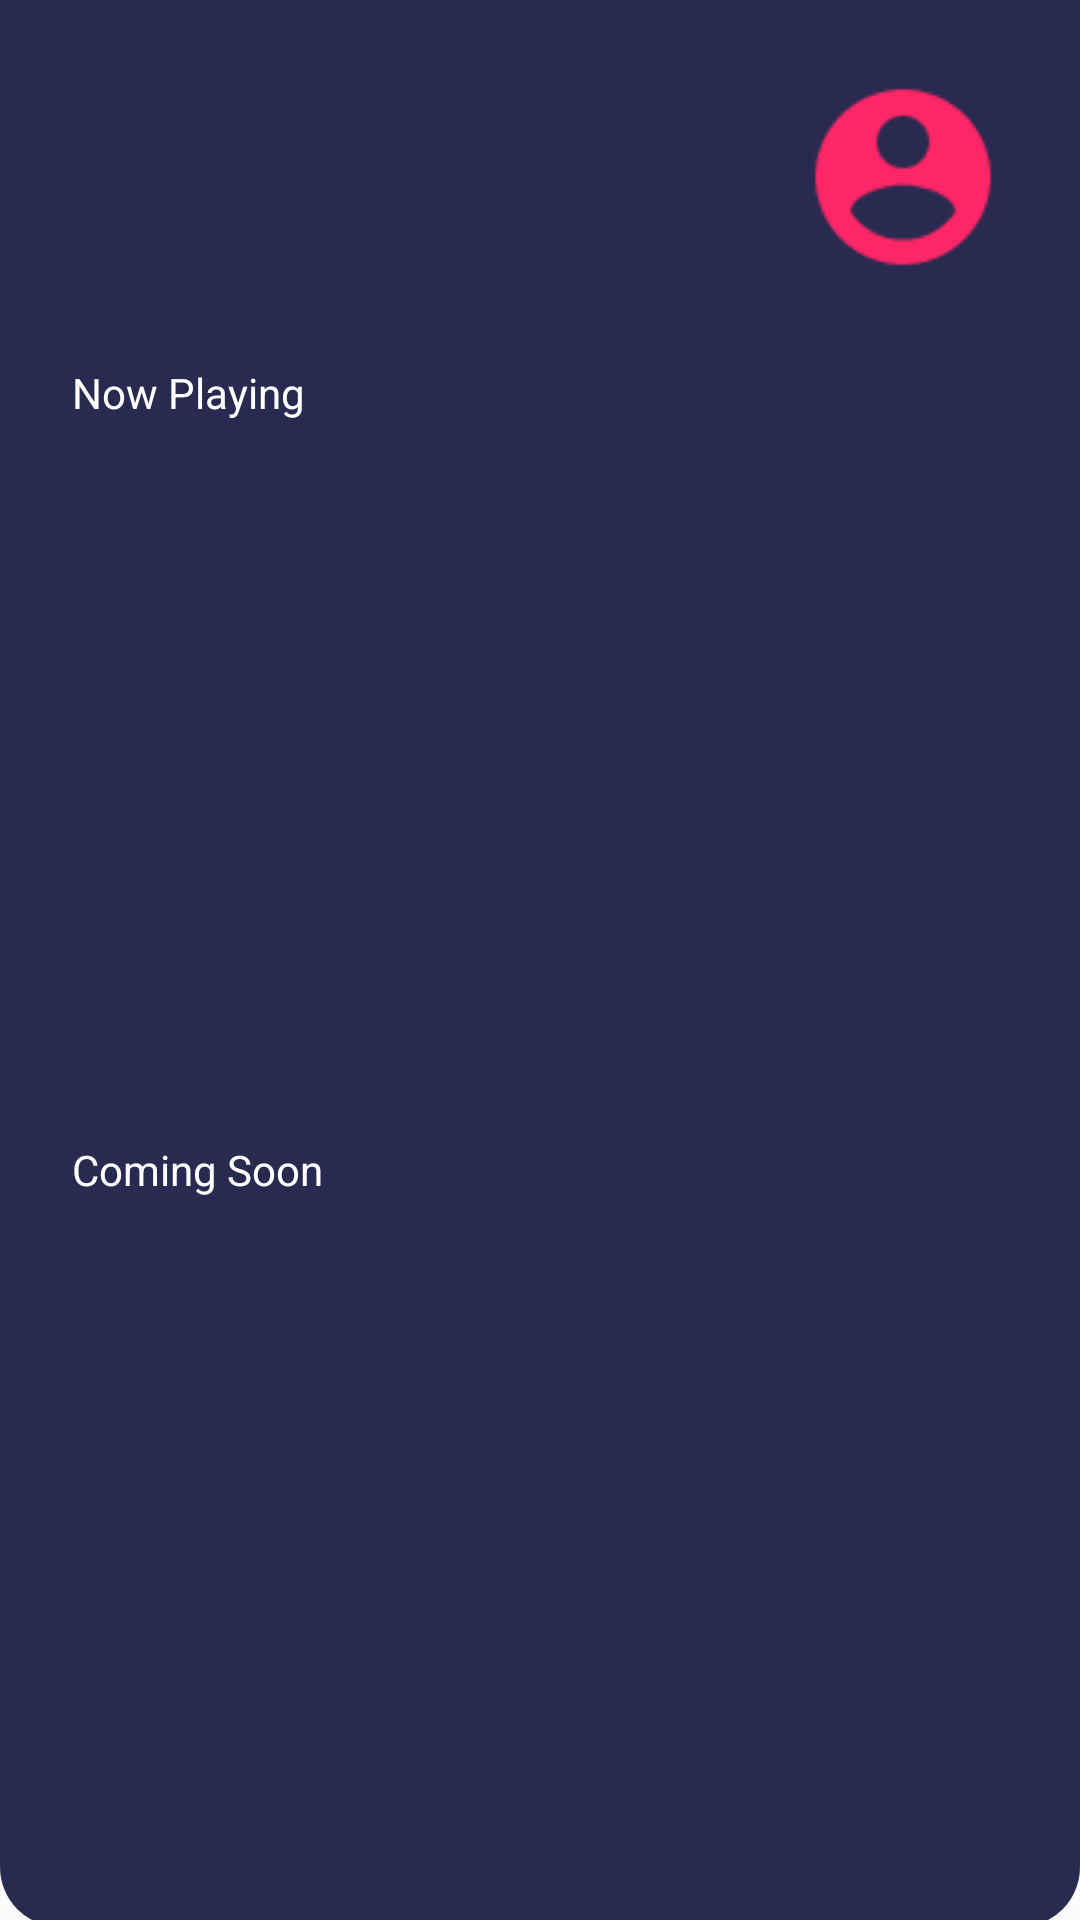

Screen size 1080*1920. Icon name, then its center in pixels as point (x, y):
user pic: point (903, 177)
